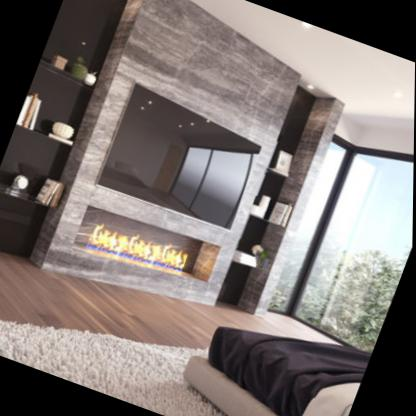Bed: (193, 328, 372, 416)
Carpet: (0, 319, 247, 416)
Wall Panel: (34, 0, 299, 307)
Wooden floor: (0, 252, 333, 341)
